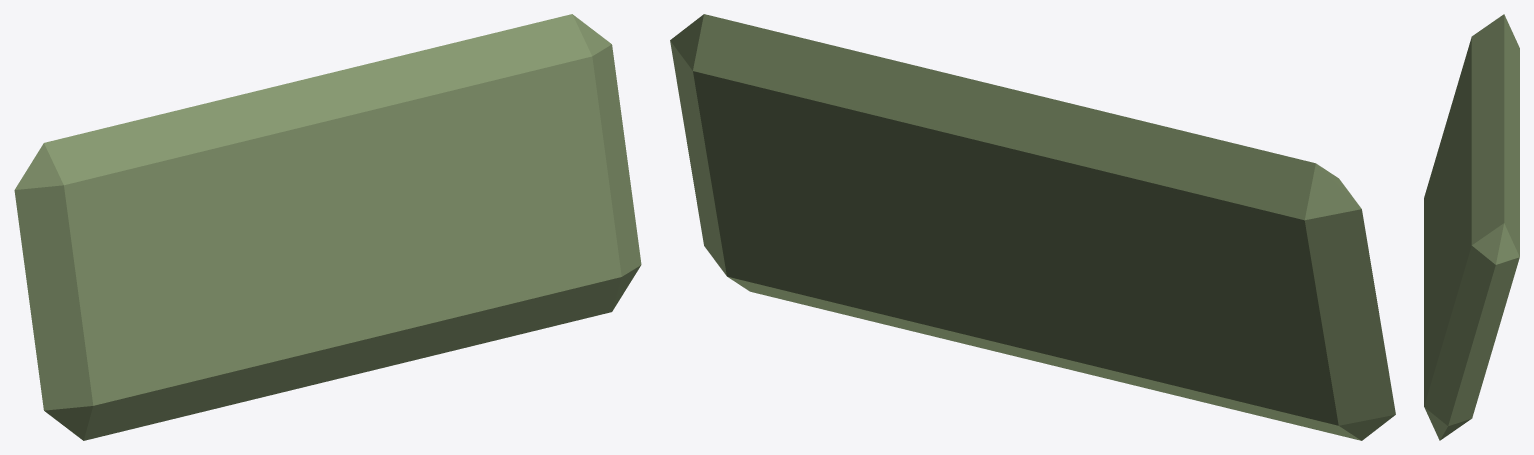
The model's file is kitPillowBlueLong.glb.
3 renders of one model, left to right at view 1: azimuth 30°, elevation 25°; view 2: azimuth 150°, elevation 25°; view 3: azimuth 270°, elevation 25°, orthographic. The views are drawn at different scales.
Visible parts, largest first — view 1: kitPillowBlueLong_fabricAccent; view 2: kitPillowBlueLong_fabricAccent; view 3: kitPillowBlueLong_fabricAccent.
Boxes of the visible parts, x1=… form: kitPillowBlueLong_fabricAccent: x1=14, y1=14, x2=641, y2=440; kitPillowBlueLong_fabricAccent: x1=670, y1=14, x2=1395, y2=440; kitPillowBlueLong_fabricAccent: x1=1424, y1=14, x2=1519, y2=440.
Size of the model in its own units: 0.5 by 0.215 by 0.0856.
